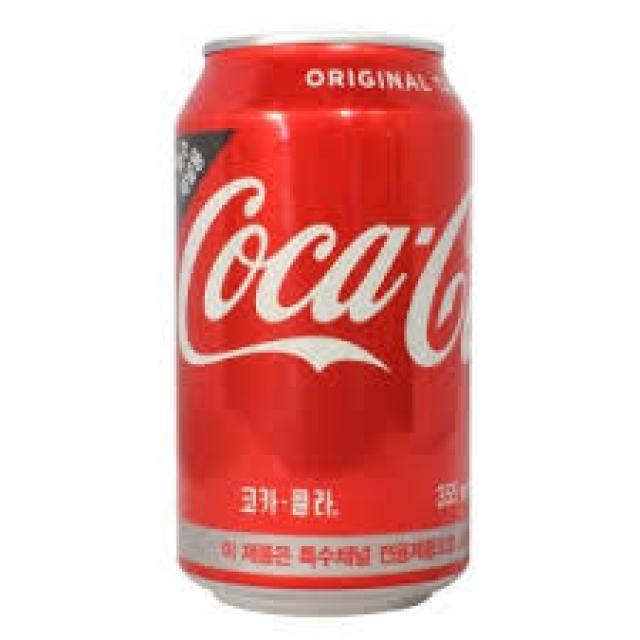Coca-Cola: (164, 20, 488, 620)
